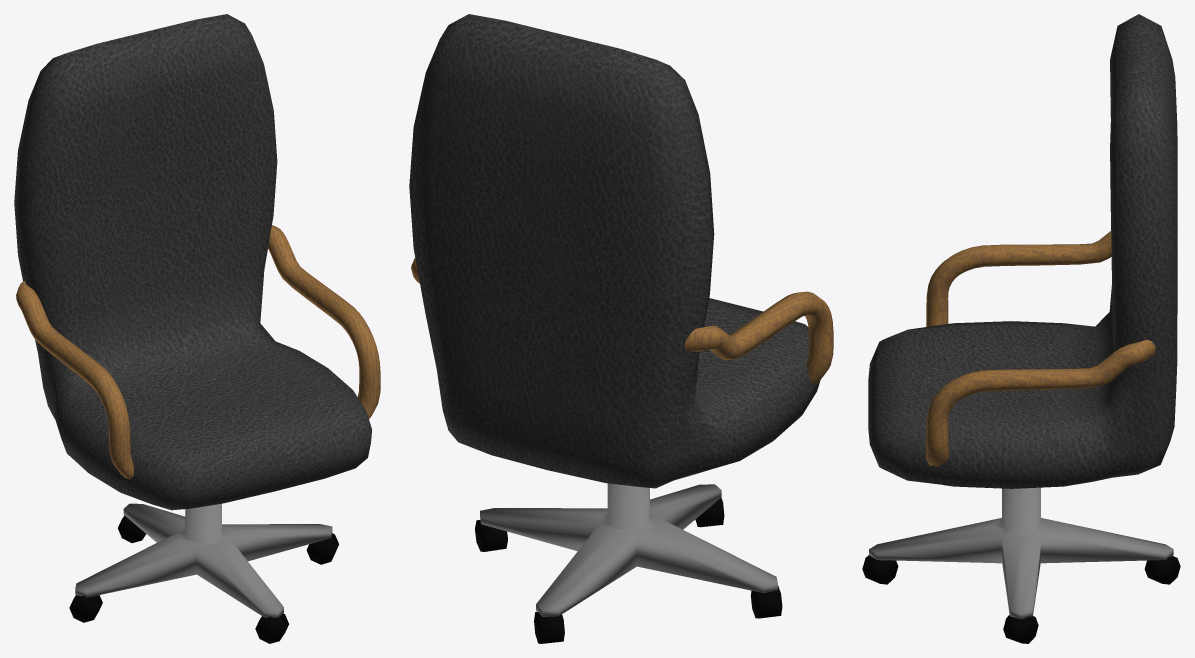
File: OfficeChairV2.fbx
3 renders of one model, left to right at view 1: azimuth 30°, elevation 25°; view 2: azimuth 150°, elevation 25°; view 3: azimuth 270°, elevation 25°, orthographic. The views are drawn at different scales.
Visible parts, largest first — view 1: Seat; view 2: Seat; view 3: Seat.
Part boxes in pixels (x1,y1,x2,y2): Seat: (14,14,380,643); Seat: (409,14,833,643); Seat: (862,14,1180,643).
Bounding box in the file's own units: 204 × 374 × 204.
Materials: 1 (1 with a texture image).
